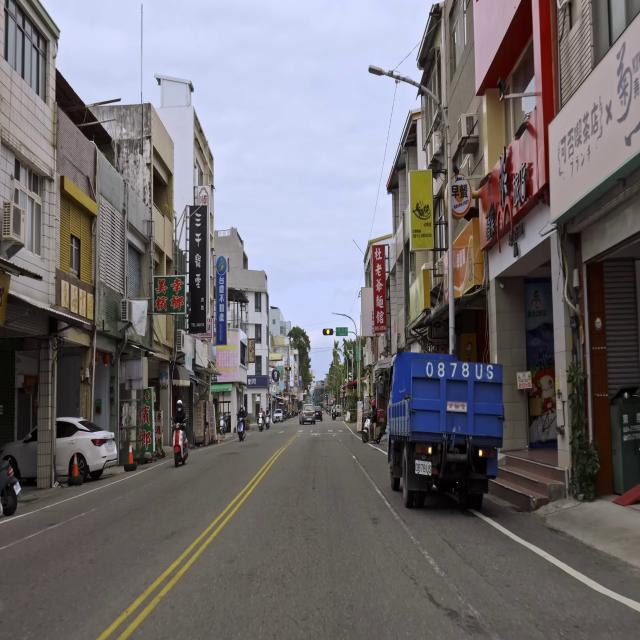yellow light: (322, 328, 334, 336), (285, 366, 291, 371)
